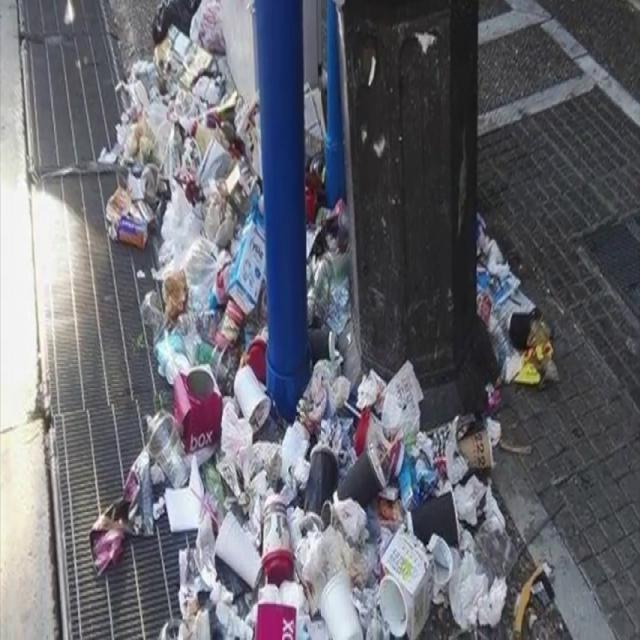garbage: (140, 369, 534, 640), (117, 0, 356, 365), (476, 228, 554, 399)
